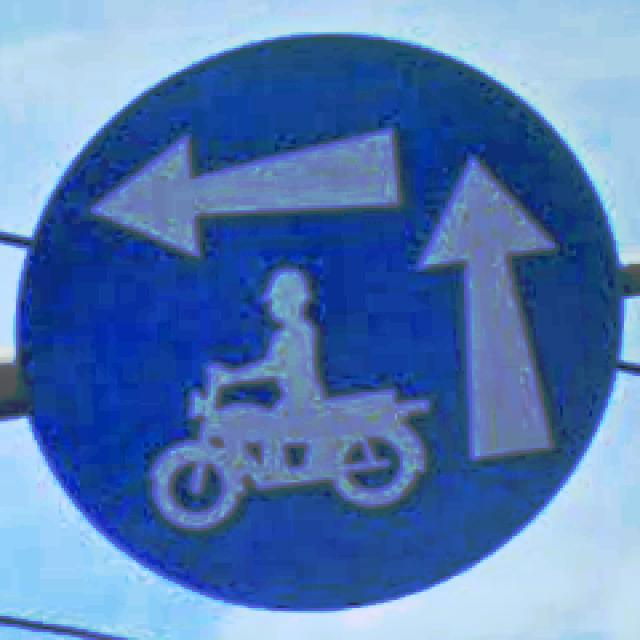twostageturn: (16, 35, 624, 611)
